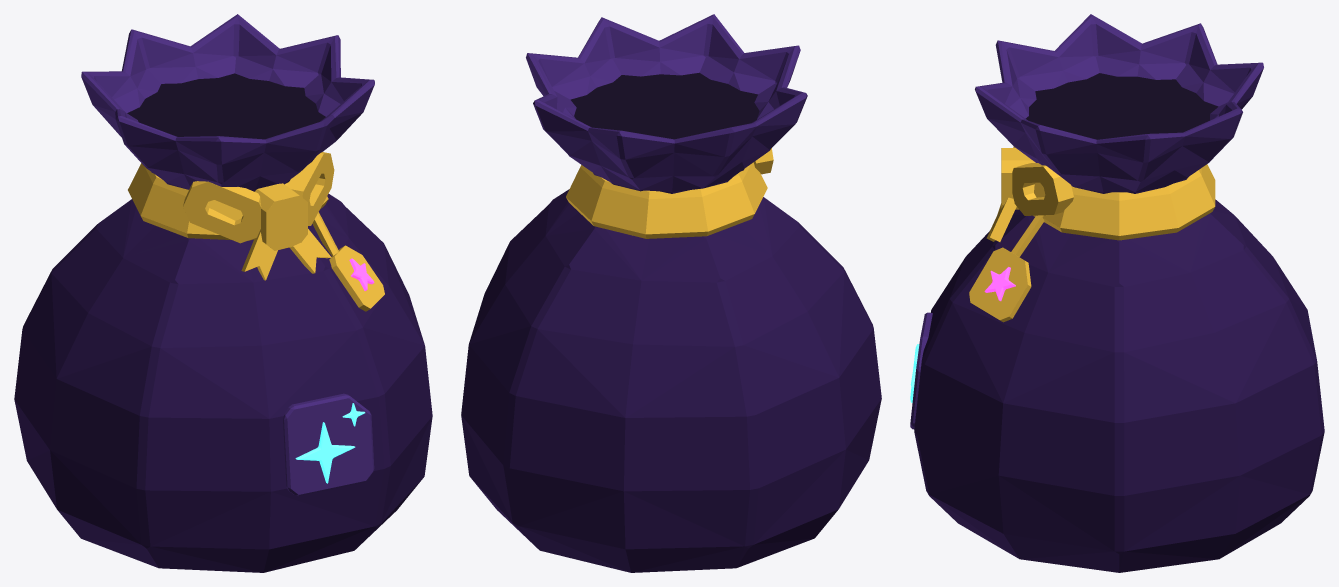
The model's file is GoodieBag_v03.fbx.
3 views of the same model, side by side, from view 1: azimuth 30°, elevation 25°; view 2: azimuth 150°, elevation 25°; view 3: azimuth 270°, elevation 25° (orthographic).
Parts seen in each view (by area): view 1: Sack_Body, Top_Frame, Top_Hardware, Top_Interior, Sack_Frame, Sack_Light; view 2: Sack_Body, Top_Frame, Top_Hardware, Top_Interior; view 3: Sack_Body, Top_Frame, Top_Hardware, Top_Interior, Sack_Frame.
Part boxes in pixels (left/top/right/bottom): Sack_Body: left=14, top=193, right=432, bottom=572; Top_Frame: left=81, top=14, right=374, bottom=191; Top_Hardware: left=128, top=152, right=384, bottom=311; Top_Interior: left=127, top=73, right=325, bottom=139; Sack_Frame: left=283, top=393, right=374, bottom=496; Sack_Light: left=295, top=403, right=365, bottom=483; Sack_Body: left=461, top=189, right=881, bottom=572; Top_Frame: left=526, top=14, right=807, bottom=193; Top_Hardware: left=566, top=148, right=773, bottom=238; Top_Interior: left=570, top=72, right=759, bottom=139; Sack_Body: left=914, top=199, right=1324, bottom=572; Top_Frame: left=975, top=14, right=1263, bottom=193; Top_Hardware: left=969, top=146, right=1215, bottom=322; Top_Interior: left=1025, top=73, right=1218, bottom=139; Sack_Frame: left=910, top=312, right=932, bottom=429.
Bounding box in the file's own units: 1.38 × 1.6 × 1.36.
